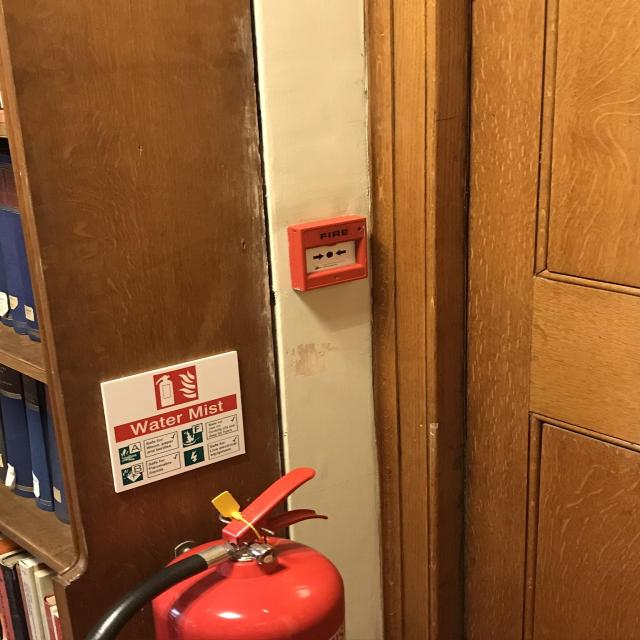fire_extinguisher: (73, 464, 357, 640)
